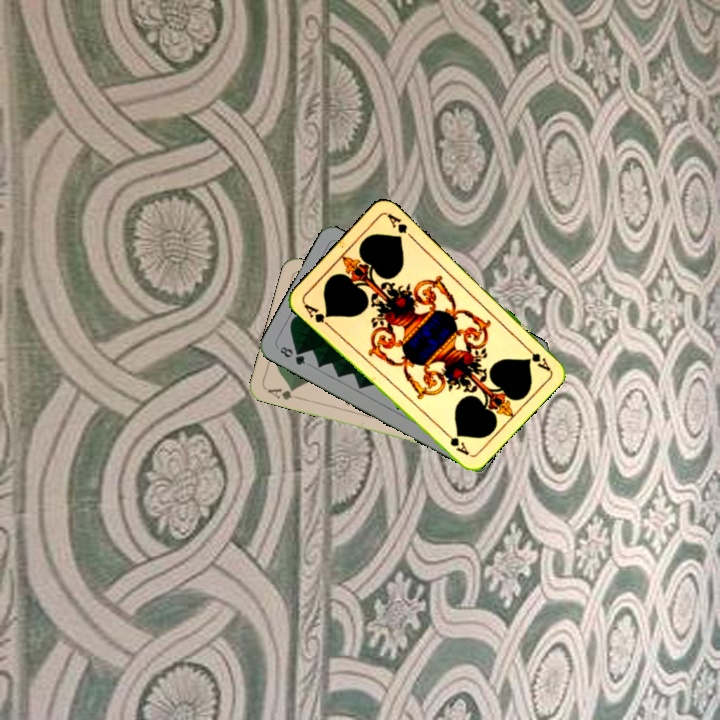G8: (276, 342, 308, 368)
GA: (520, 341, 553, 374), (299, 299, 334, 330), (264, 384, 303, 402)
